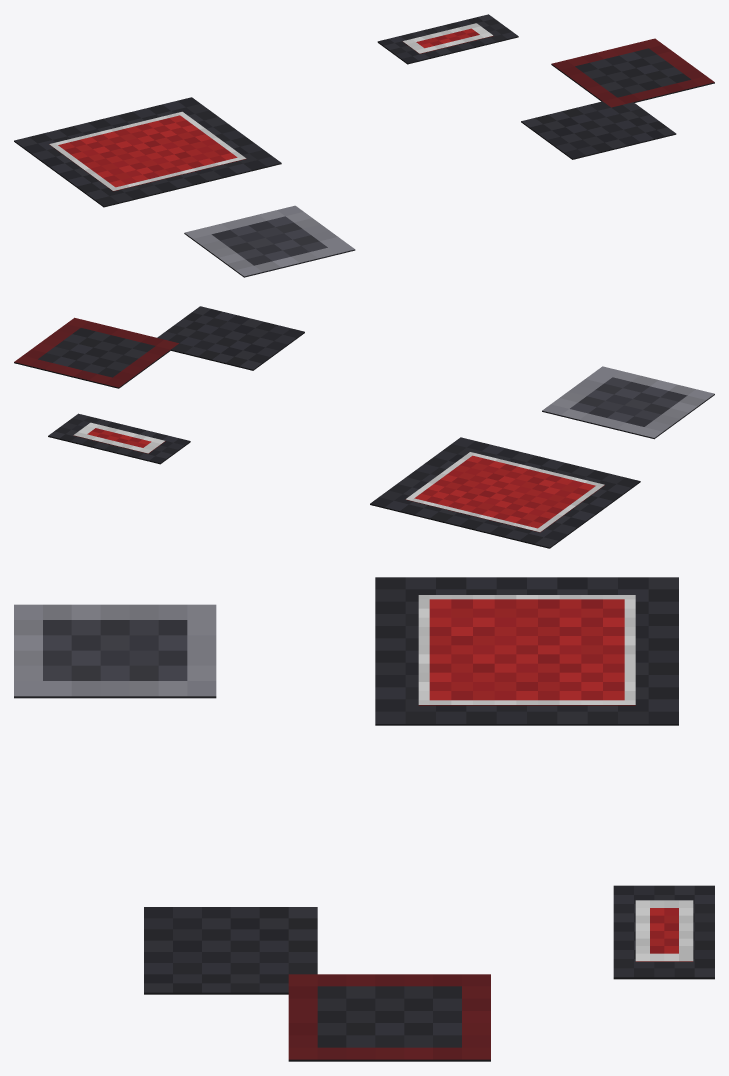
The model's file is Decor_GymHall_Floor.fbx.
3 views of the same model, one above another, from view 1: azimuth 30°, elevation 25°; view 2: azimuth 150°, elevation 25°; view 3: azimuth 270°, elevation 25° (orthographic). The views are drawn at different scales.
Visible parts, largest first — view 1: Floor_Body; view 2: Floor_Body; view 3: Floor_Body.
Part boxes in pixels (x1,y1,x2,y2): Floor_Body: (14, 14, 714, 277); Floor_Body: (14, 306, 714, 548); Floor_Body: (14, 577, 714, 1061).
Size of the model in its own units: 158 by 0.4 by 97.
